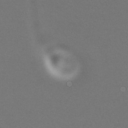normal: (15, 1, 51, 50)
